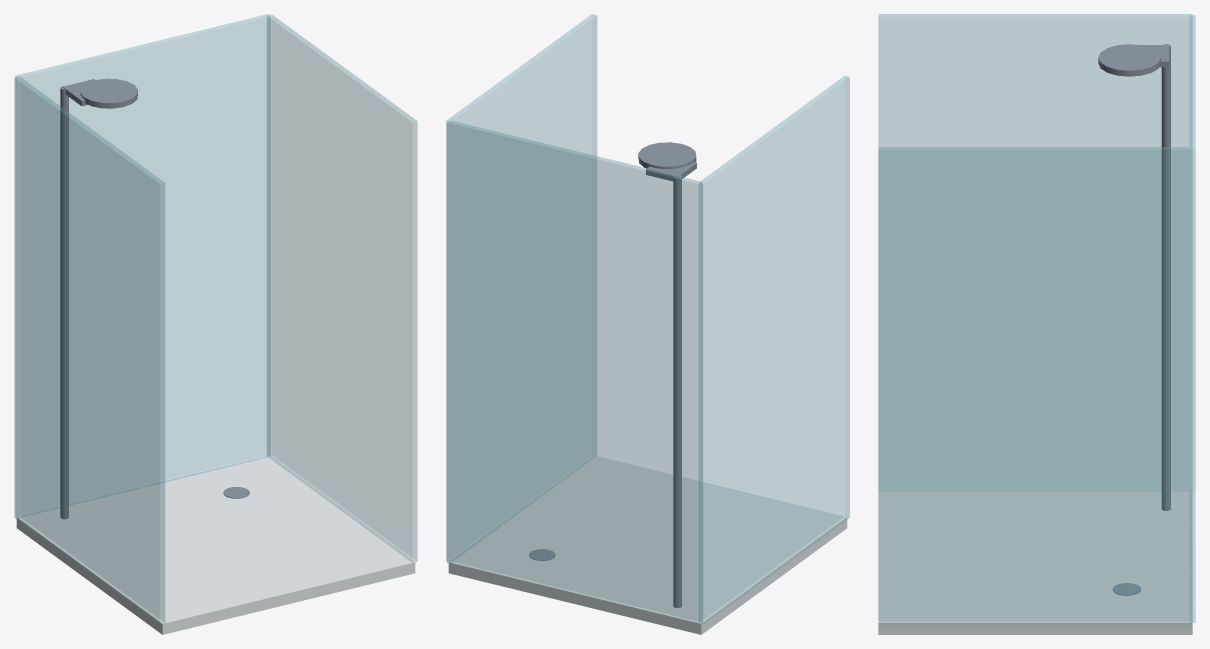
Rendered from shower.glb.
3 views of the same model, side by side, from view 1: azimuth 30°, elevation 25°; view 2: azimuth 150°, elevation 25°; view 3: azimuth 270°, elevation 25° (orthographic). The views are drawn at different scales.
Visible parts, largest first — view 1: RearGlass, SideGlass, _MeshInstance3D_14, Tray, Pipe, Head; view 2: RearGlass, SideGlass, _MeshInstance3D_14, Tray, Pipe, Head; view 3: _MeshInstance3D_14, SideGlass, Tray, Pipe, RearGlass, Head.
Part boxes in pixels (x1,y1,x2,y2): RearGlass: (15,14,270,517); SideGlass: (14,76,164,624); _MeshInstance3D_14: (267,15,417,562); Tray: (16,456,415,634); Pipe: (60,86,68,519); Head: (80,78,137,108); RearGlass: (447,120,702,624); SideGlass: (699,76,849,624); _MeshInstance3D_14: (446,14,596,562); Tray: (448,455,847,634); Pipe: (673,175,681,607); Head: (638,142,696,168); _MeshInstance3D_14: (878,147,1192,624); SideGlass: (878,14,1192,490); Tray: (878,490,1192,634); Pipe: (1161,44,1170,510); RearGlass: (1189,15,1195,622); Head: (1098,44,1160,76).
Bounding box in the file's own units: 1.23 × 2.05 × 1.21.
